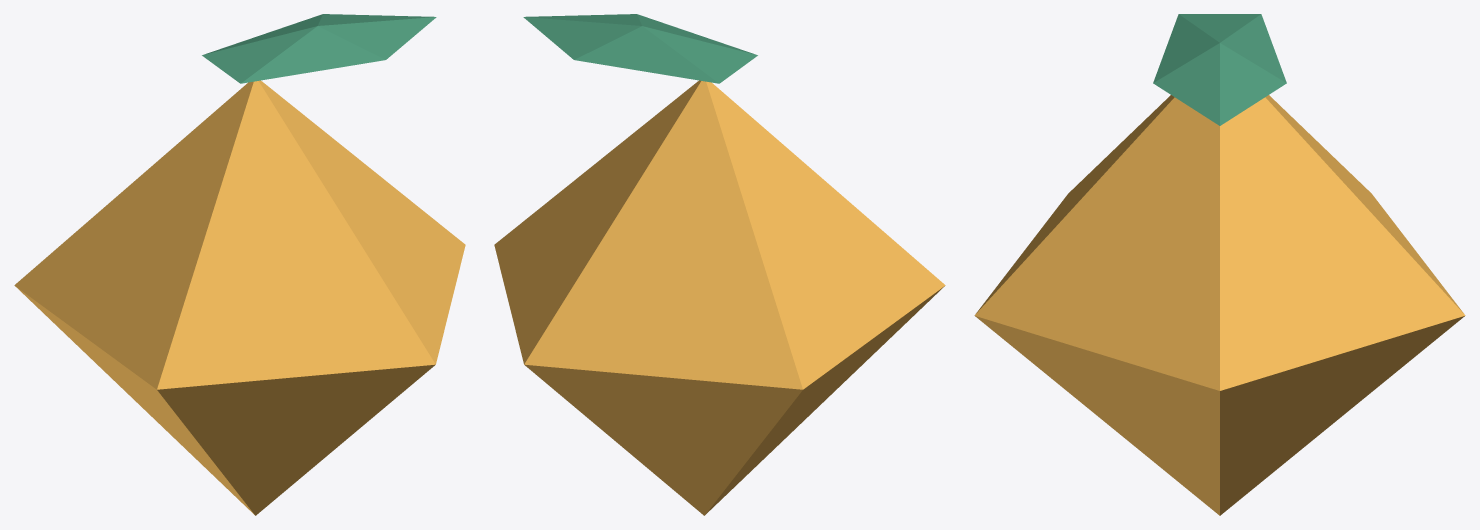
Rendered from fruit.obj.
3 renders of one model, left to right at view 1: azimuth 30°, elevation 25°; view 2: azimuth 150°, elevation 25°; view 3: azimuth 270°, elevation 25°, orthographic. The views are drawn at different scales.
Visible parts, largest first — view 1: fruit; view 2: fruit; view 3: fruit.
Part boxes in pixels (x1=…): fruit: x1=14, y1=14, x2=465, y2=515; fruit: x1=494, y1=14, x2=945, y2=515; fruit: x1=974, y1=14, x2=1465, y2=515.
Bounding box in the file's own units: 0.796 × 0.95 × 0.8369.
